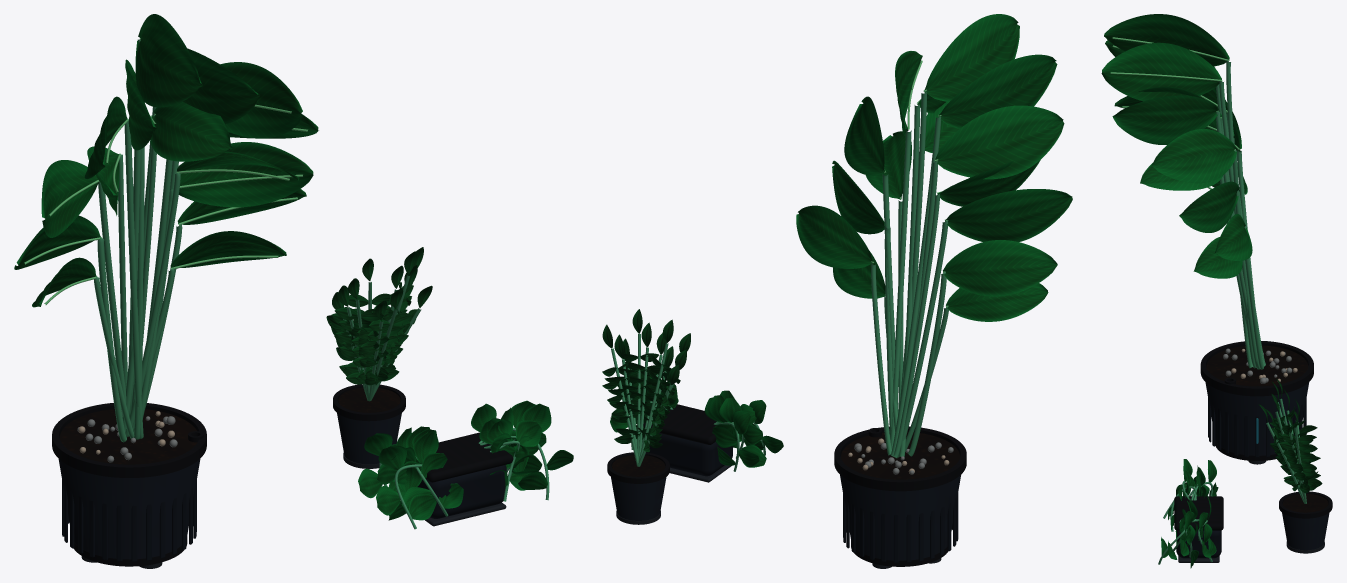
Rendered from plants.glb.
3 views of the same model, side by side, from view 1: azimuth 30°, elevation 25°; view 2: azimuth 150°, elevation 25°; view 3: azimuth 270°, elevation 25° (orthographic). The views are drawn at different scales.
Parts seen in each view (by area): view 1: TallPot_Body, TallPlant_Leaf_09, TallPot_Soil, TallPlant_Leaf_05, TallPlant_Leaf_12, TallPlant_Leaf_07, TallPot_Rim, TallPlant_Leaf_02, TallPlant_Leaf_06, TallPlant_Leaf_15, PothosPot_Body, PothosPot_Rim (+23 smaller); view 2: TallPlant_Leaf_03, TallPot_Body, TallPlant_Leaf_02, TallPlant_Leaf_01, TallPlant_Leaf_05, TallPlant_Leaf_04, TallPlant_Leaf_10, TallPot_Soil, TallPot_Rim, TallPlant_Leaf_14, TallPlant_Leaf_08, PothosPot_Body (+21 smaller); view 3: TallPlant_Leaf_06, TallPlant_Leaf_07, TallPot_Body, TallPlant_Leaf_08, TallPlant_Leaf_05, TallPot_Soil, TallPlant_Leaf_09, TallPot_Rim, DeskPot_Body, TallPlant_Leaf_10, PothosPot_Rim, TallPlant_Leaf_15 (+12 smaller).
Boxes of the visible parts, x1=… form: TallPot_Body: x1=58, y1=436, x2=200, y2=559; TallPlant_Leaf_09: x1=179, y1=142, x2=313, y2=207; TallPot_Soil: x1=60, y1=409, x2=197, y2=464; TallPlant_Leaf_05: x1=135, y1=14, x2=202, y2=107; TallPlant_Leaf_12: x1=150, y1=101, x2=232, y2=161; TallPlant_Leaf_07: x1=220, y1=62, x2=302, y2=138; TallPot_Rim: x1=52, y1=403, x2=206, y2=477; TallPlant_Leaf_02: x1=41, y1=160, x2=98, y2=237; TallPlant_Leaf_06: x1=183, y1=48, x2=260, y2=124; TallPlant_Leaf_15: x1=170, y1=231, x2=286, y2=267; PothosPot_Body: x1=417, y1=465, x2=506, y2=518; PothosPot_Rim: x1=421, y1=432, x2=513, y2=482; TallPlant_Leaf_03: x1=935, y1=105, x2=1064, y2=179; TallPot_Body: x1=840, y1=454, x2=960, y2=560; TallPlant_Leaf_02: x1=945, y1=189, x2=1072, y2=241; TallPlant_Leaf_01: x1=943, y1=240, x2=1057, y2=296; TallPlant_Leaf_05: x1=923, y1=14, x2=1019, y2=101; TallPlant_Leaf_04: x1=938, y1=54, x2=1057, y2=128; TallPlant_Leaf_10: x1=796, y1=205, x2=873, y2=268; TallPot_Soil: x1=841, y1=431, x2=959, y2=479; TallPot_Rim: x1=834, y1=426, x2=966, y2=491; TallPlant_Leaf_14: x1=946, y1=283, x2=1048, y2=321; TallPlant_Leaf_08: x1=844, y1=96, x2=885, y2=175; PothosPot_Body: x1=646, y1=433, x2=732, y2=476; TallPlant_Leaf_06: x1=1101, y1=42, x2=1221, y2=101; TallPlant_Leaf_07: x1=1112, y1=95, x2=1218, y2=144; TallPot_Body: x1=1205, y1=365, x2=1309, y2=455; TallPlant_Leaf_08: x1=1151, y1=129, x2=1237, y2=183; TallPlant_Leaf_05: x1=1104, y1=14, x2=1229, y2=66; TallPot_Soil: x1=1206, y1=345, x2=1308, y2=386; TallPlant_Leaf_09: x1=1179, y1=181, x2=1239, y2=232; TallPot_Rim: x1=1200, y1=341, x2=1313, y2=396; DeskPot_Body: x1=1282, y1=503, x2=1329, y2=550; TallPlant_Leaf_10: x1=1214, y1=214, x2=1252, y2=260; PothosPot_Rim: x1=1174, y1=496, x2=1223, y2=530; TallPlant_Leaf_15: x1=1193, y1=237, x2=1242, y2=278.
Bounding box in the file's own units: 1.58 × 1.65 × 0.8115.
Materials: 11 (5 with a texture image).
